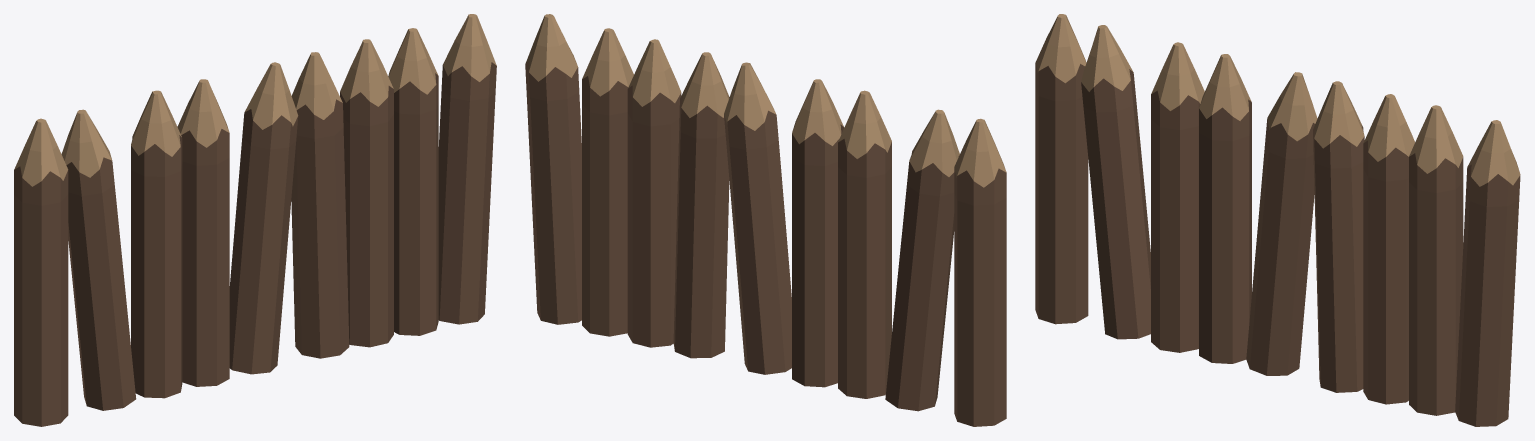
Rendered from PikeWall(D).fbx.
3 renders of one model, left to right at view 1: azimuth 30°, elevation 25°; view 2: azimuth 150°, elevation 25°; view 3: azimuth 330°, elevation 25°, orthographic.
Visible parts, largest first — view 1: PikeWall(D); view 2: PikeWall(D); view 3: PikeWall(D).
Boxes of the visible parts, x1=… form: PikeWall(D): x1=14, y1=14, x2=496, y2=426; PikeWall(D): x1=525, y1=14, x2=1006, y2=426; PikeWall(D): x1=1035, y1=14, x2=1520, y2=426.
Bounding box in the file's own units: 2017 × 1209 × 200.
